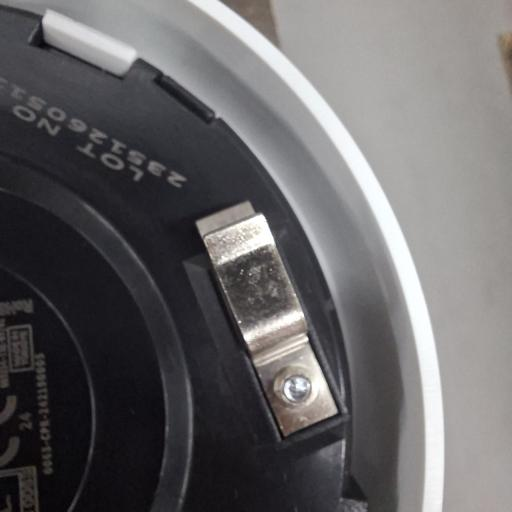yayli: (195, 203, 340, 438)
